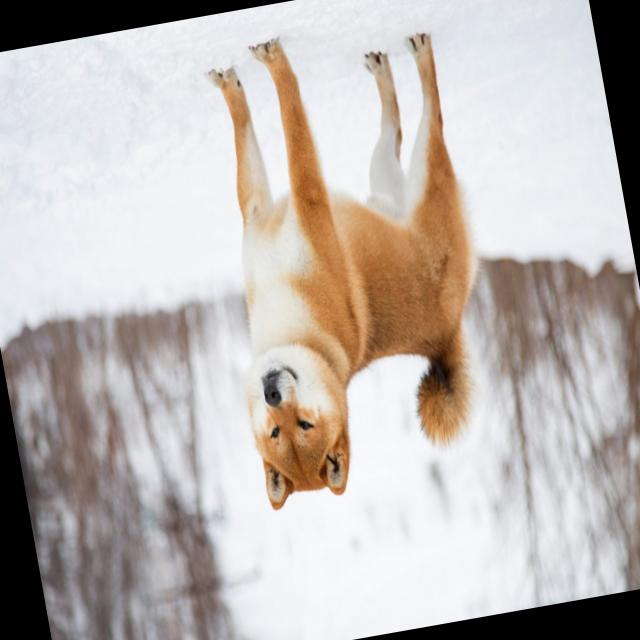dogs: (184, 9, 512, 516)
